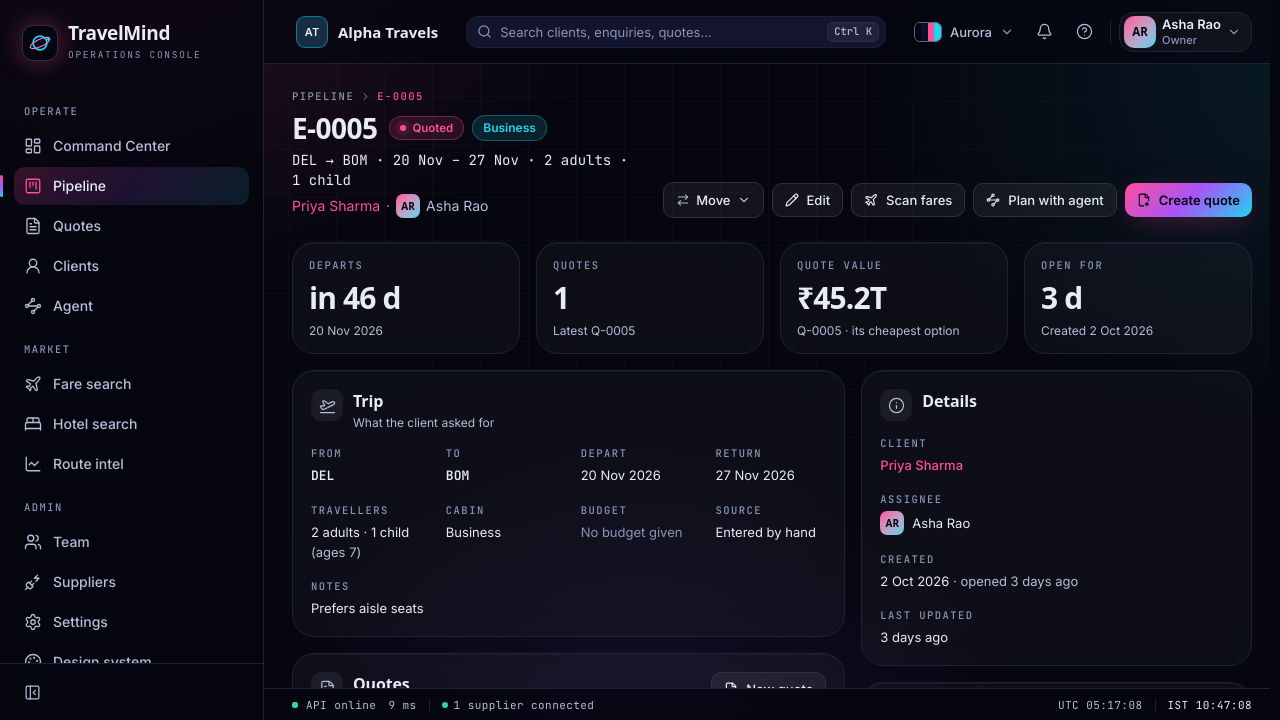
Test: Plan with agent opens the Agent with a request for the whole trip filled in, not sent
Step 1. Click the link "Plan with agent" → {"x": 1045, "y": 200}, box [973,183,1117,217]
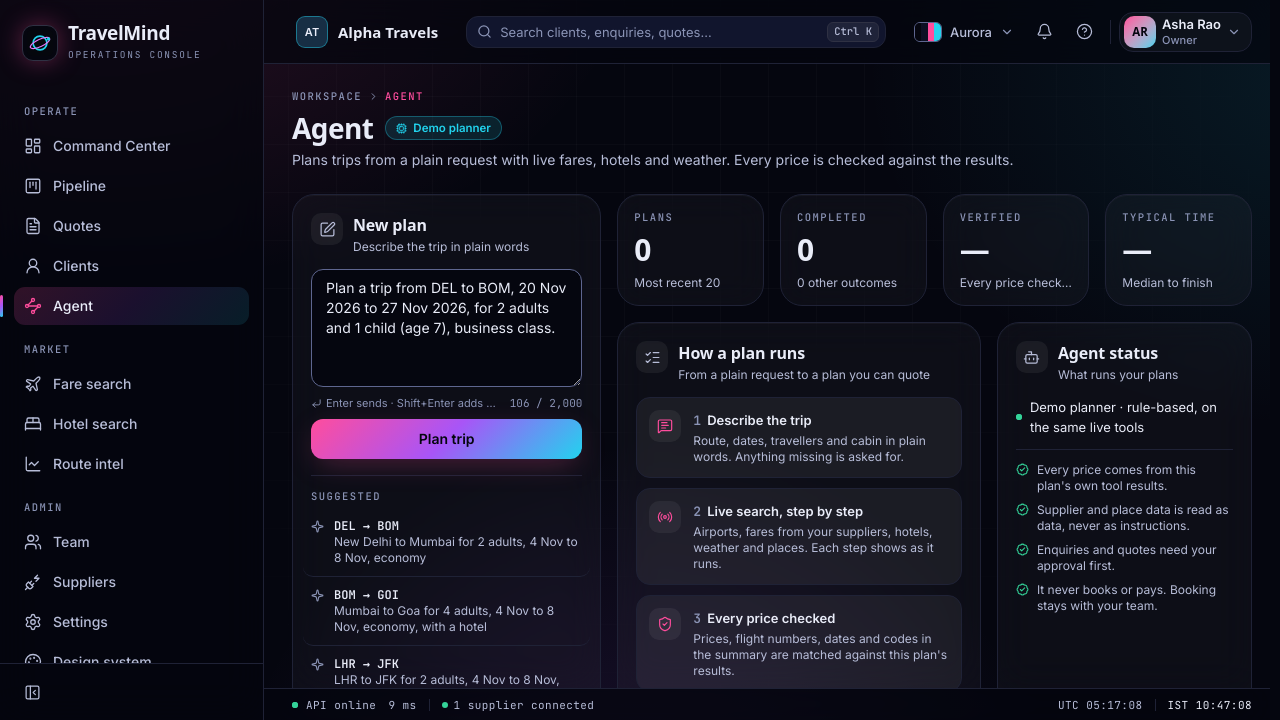
Result: the text box named "Trip request" holds "Plan a trip from DEL to BOM, 20 Nov 2026 to 27 Nov 2026, for 2 adults and 1 child (age 7), business class." at [311,269,582,387]
